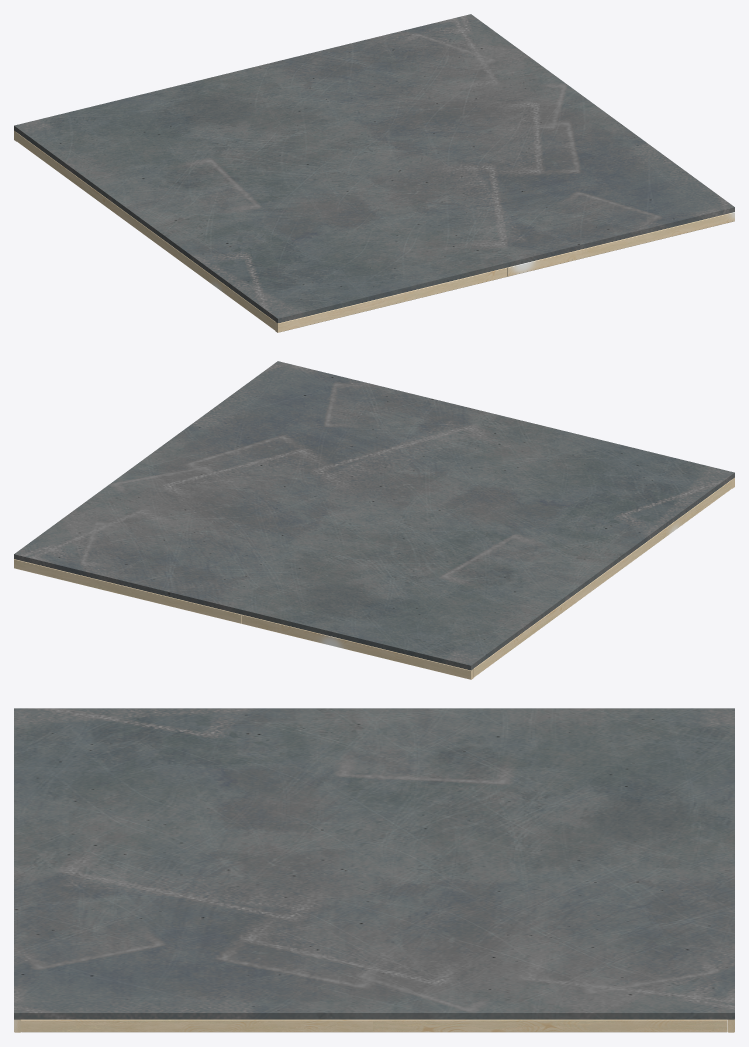
Rendered from ground.glb.
3 views of the same model, one above another, from view 1: azimuth 30°, elevation 25°; view 2: azimuth 150°, elevation 25°; view 3: azimuth 270°, elevation 25° (orthographic). The views are drawn at different scales.
Visible parts, largest first — view 1: Ground; view 2: Ground; view 3: Ground.
Part boxes in pixels (<box>): Ground: <box>14,14,734,332</box>; Ground: <box>14,361,734,679</box>; Ground: <box>14,708,734,1032</box>.
Bounding box in the file's own units: 5 × 0.15 × 5.
3 materials, 3 textured.
